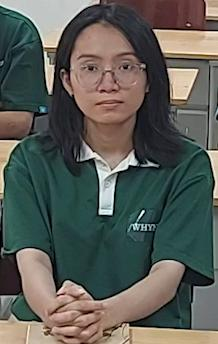Looking_Forward: (4, 5, 209, 313)
